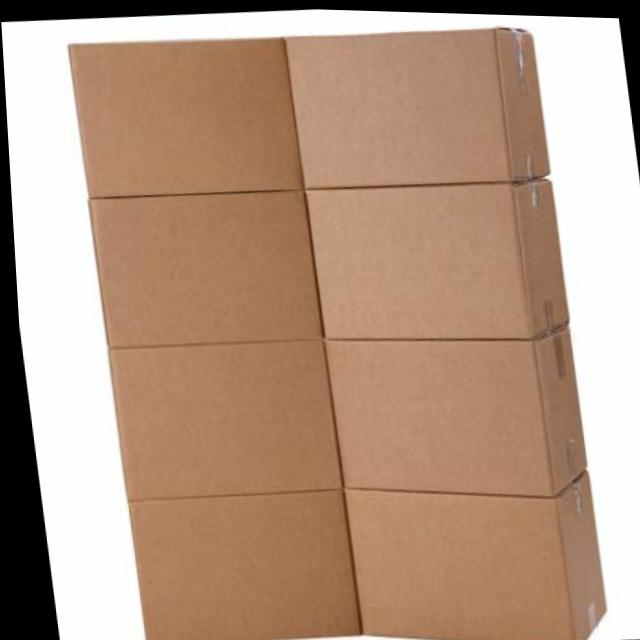box: (312, 311, 596, 514), (329, 446, 616, 640), (294, 161, 579, 354), (281, 12, 552, 199), (87, 320, 335, 504), (75, 179, 326, 360), (59, 24, 301, 209), (117, 484, 358, 640)
